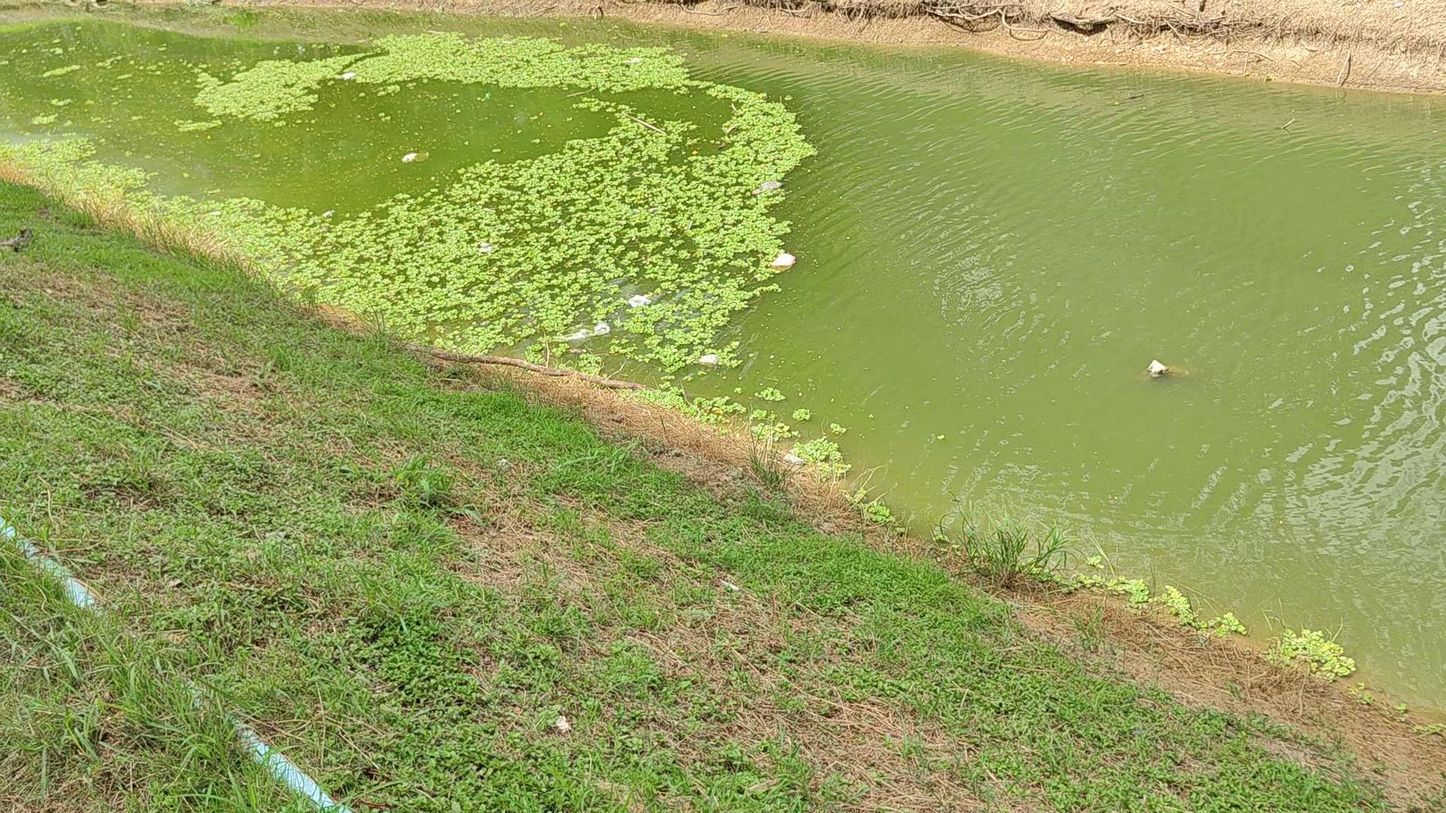trash: (564, 322, 610, 340), (770, 252, 795, 270), (752, 181, 782, 195), (1147, 360, 1170, 376), (628, 294, 650, 307), (698, 354, 718, 364), (401, 152, 419, 162), (479, 241, 493, 252), (340, 72, 355, 79), (627, 57, 642, 63)
